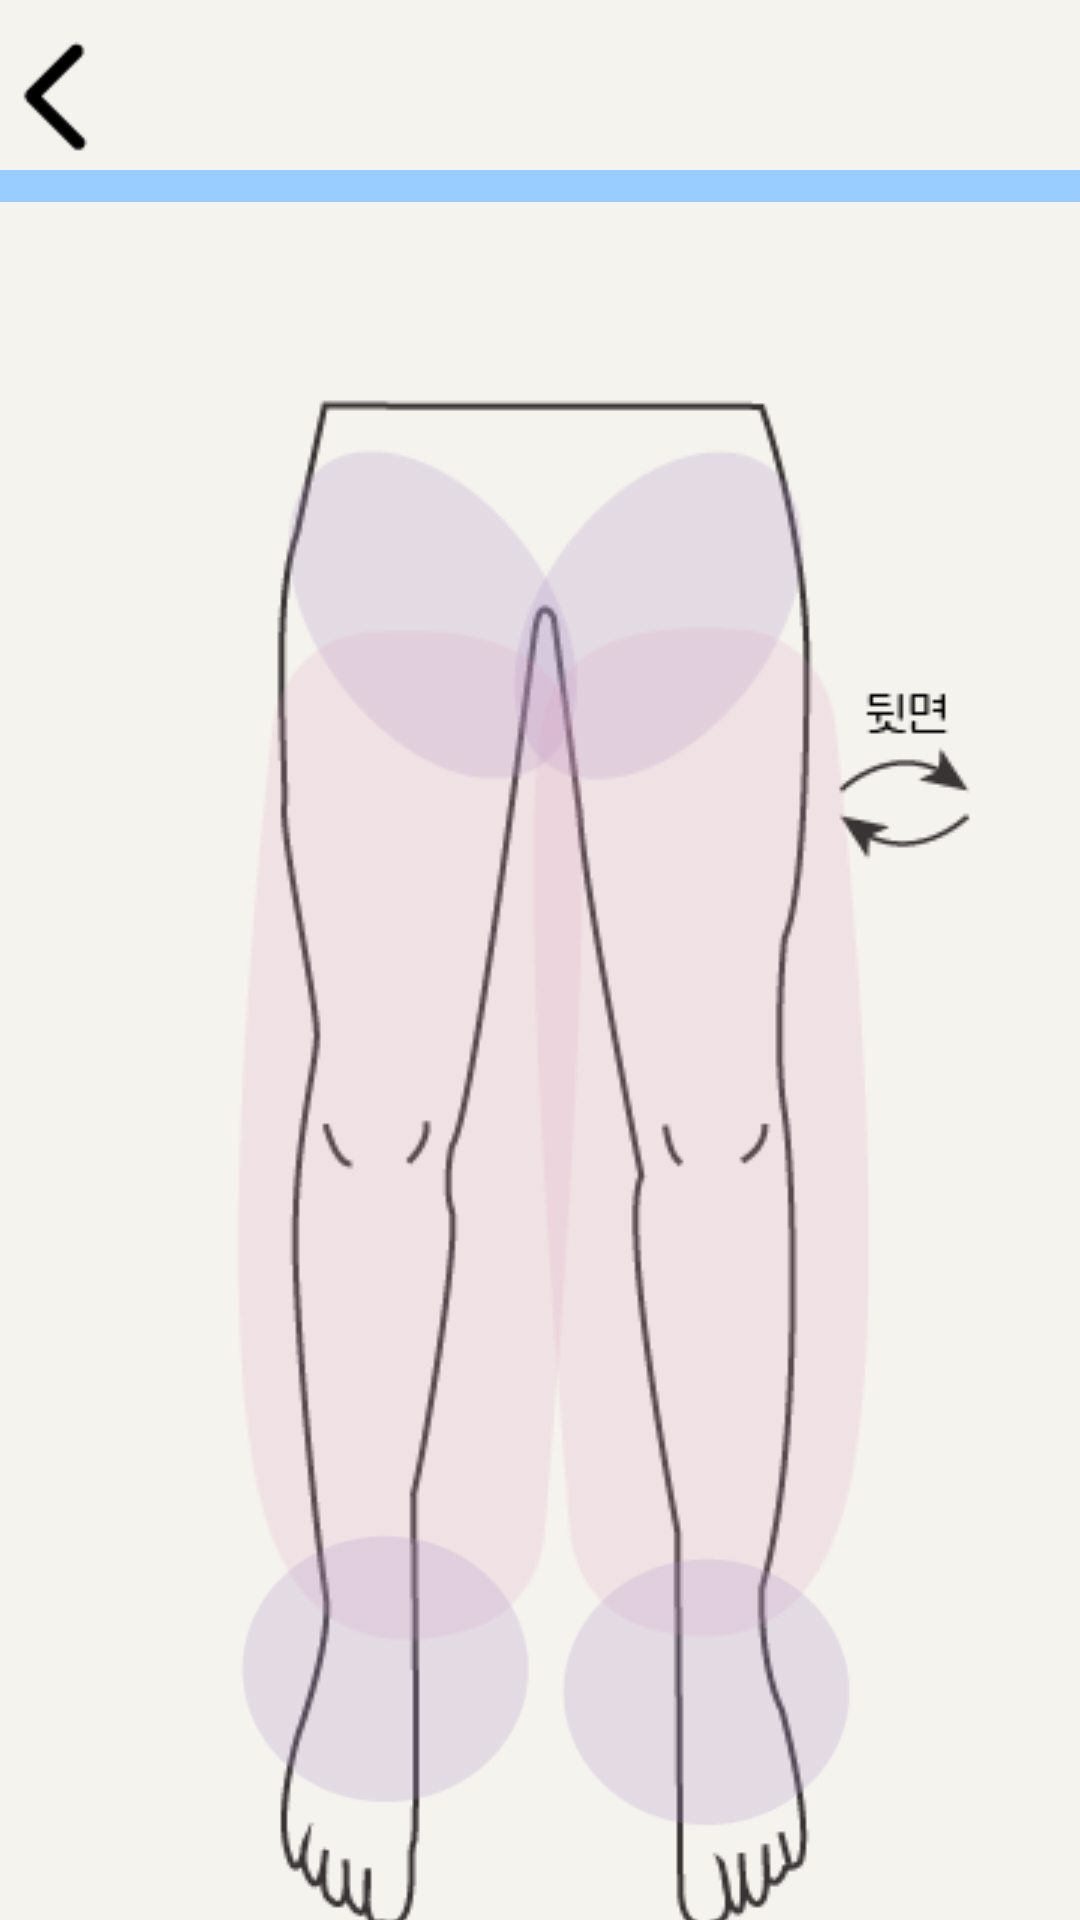

Point at icon controls on the screen. Image size 1080 x 1920, points as [x,y].
back: [55,96]
